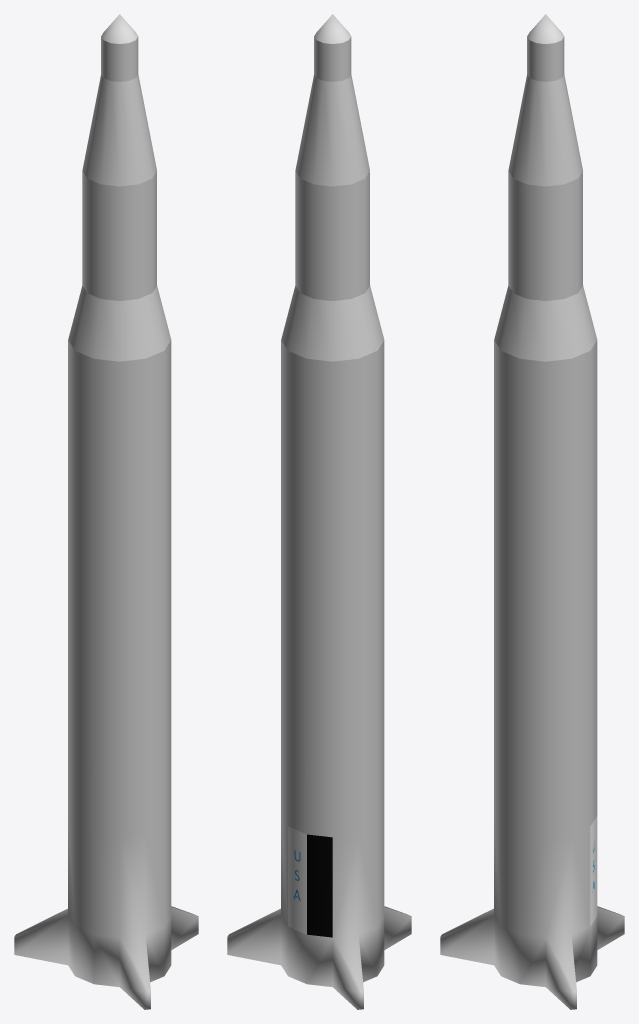
The model's file is Rocket.obj.
The picture shows the model from 3 angles, left to right: view 1: azimuth 30°, elevation 25°; view 2: azimuth 150°, elevation 25°; view 3: azimuth 270°, elevation 25°; orthographic projection.
Parts seen in each view (by area): view 1: Rocket; view 2: Rocket; view 3: Rocket.
Part boxes in pixels (x1,y1,x2,y2): Rocket: (14,14,198,1009); Rocket: (227,14,411,1009); Rocket: (440,14,624,1009).
Bounding box in the file's own units: 15.77 × 89.74 × 15.77.
Materials: 2 (1 with a texture image).
